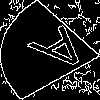A: (25, 25, 100, 83)
